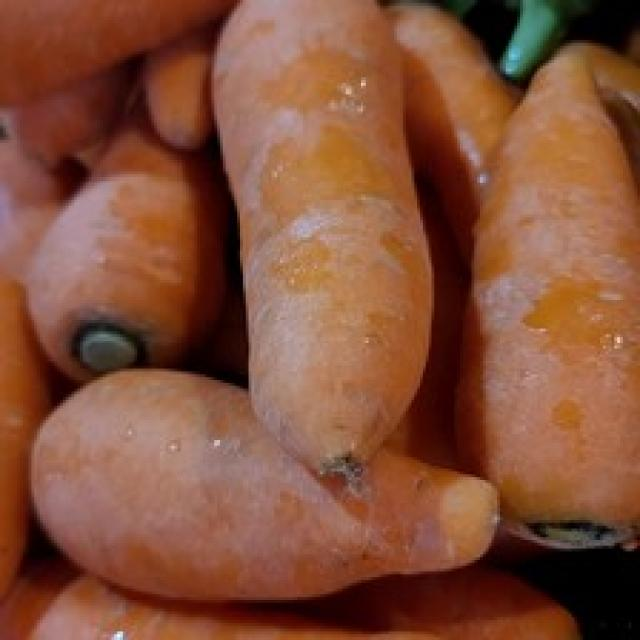Fresh_Carrot: (210, 29, 426, 440), (474, 86, 640, 514)
